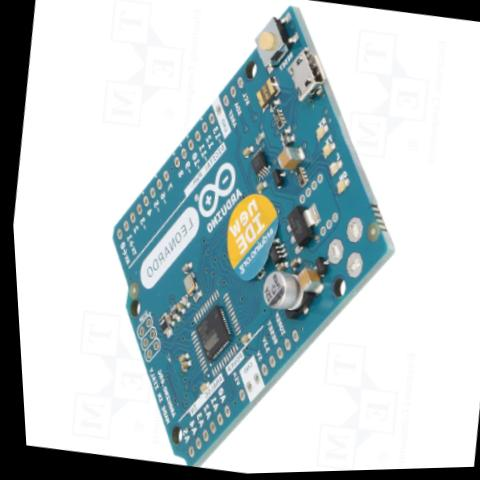Arduino-Leonardo: (55, 0, 443, 479)
